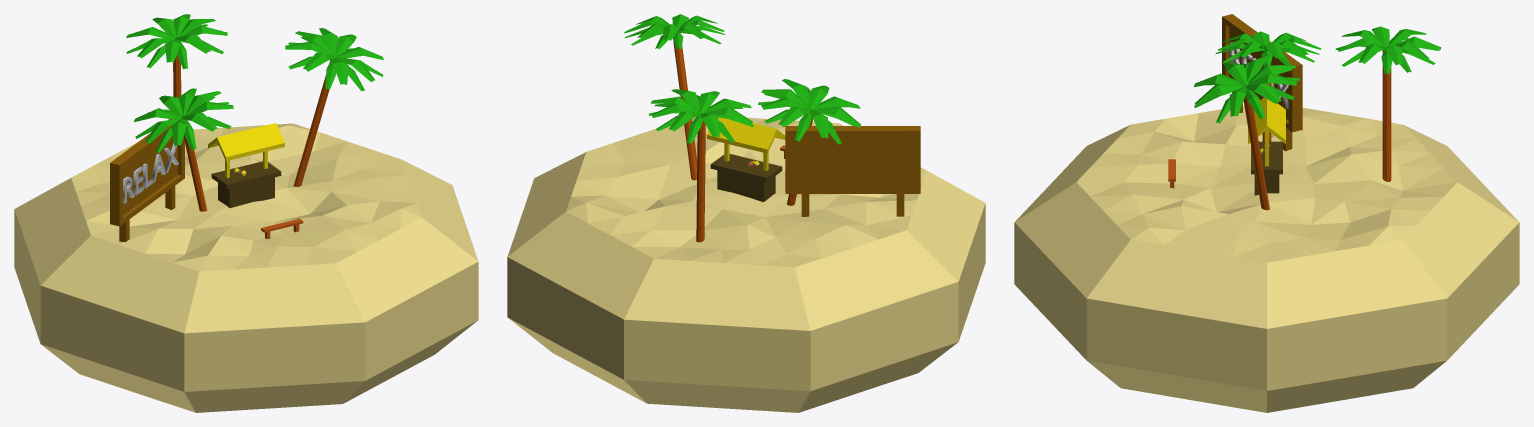
The model's file is Ostrov-vacation.fbx.
3 views of the same model, side by side, from view 1: azimuth 30°, elevation 25°; view 2: azimuth 150°, elevation 25°; view 3: azimuth 270°, elevation 25° (orthographic). The views are drawn at different scales.
Visible parts, largest first — view 1: Cube, Текст, Плоскость.002, Плоскость.010, Плоскость.003, Куб, Куб.001; view 2: Cube, Текст, Плоскость.003, Плоскость.010, Плоскость.002, Куб, Куб.001; view 3: Cube, Плоскость.002, Плоскость.003, Текст, Плоскость.010, Куб.001, Куб.
Part boxes in pixels (left/top/right/bottom): Cube: left=14, top=123, right=478, bottom=412; Текст: left=110, top=119, right=184, bottom=241; Плоскость.002: left=285, top=28, right=383, bottom=186; Плоскость.010: left=134, top=88, right=233, bottom=211; Плоскость.003: left=126, top=14, right=227, bottom=98; Куб: left=211, top=161, right=281, bottom=208; Куб.001: left=208, top=123, right=284, bottom=178; Cube: left=507, top=117, right=985, bottom=412; Текст: left=785, top=126, right=920, bottom=216; Плоскость.003: left=648, top=89, right=753, bottom=242; Плоскость.010: left=758, top=79, right=861, bottom=205; Плоскость.002: left=624, top=14, right=724, bottom=180; Куб: left=710, top=154, right=782, bottom=202; Куб.001: left=707, top=117, right=785, bottom=170; Cube: left=1014, top=105, right=1519, bottom=412; Плоскость.002: left=1194, top=54, right=1299, bottom=210; Плоскость.003: left=1335, top=26, right=1441, bottom=181; Текст: left=1222, top=14, right=1302, bottom=151; Плоскость.010: left=1215, top=31, right=1320, bottom=141; Куб.001: left=1248, top=97, right=1285, bottom=166; Куб: left=1251, top=141, right=1282, bottom=195.
Size of the model in its own units: 3374 by 2197 by 3374.
